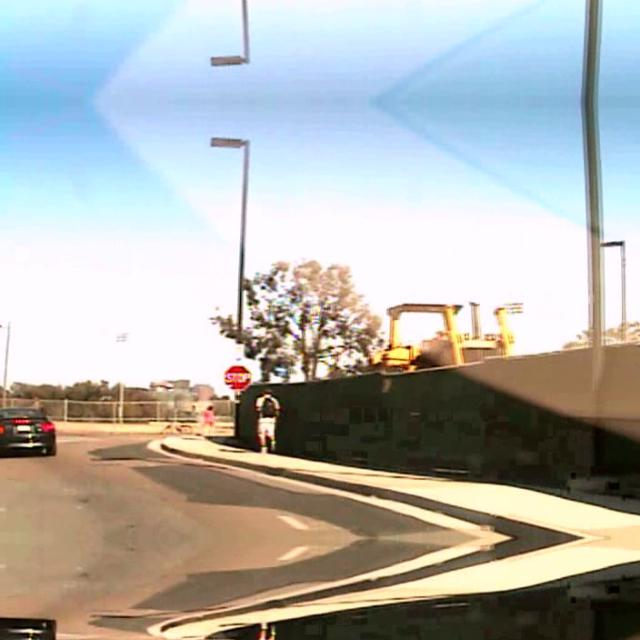stop: (223, 363, 251, 389)
